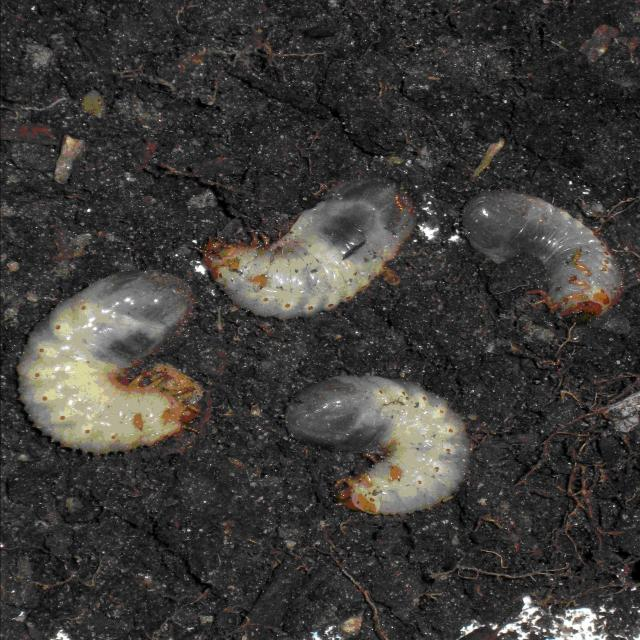grub: (13, 268, 201, 470), (267, 373, 476, 525), (201, 178, 416, 324), (469, 193, 627, 318)
